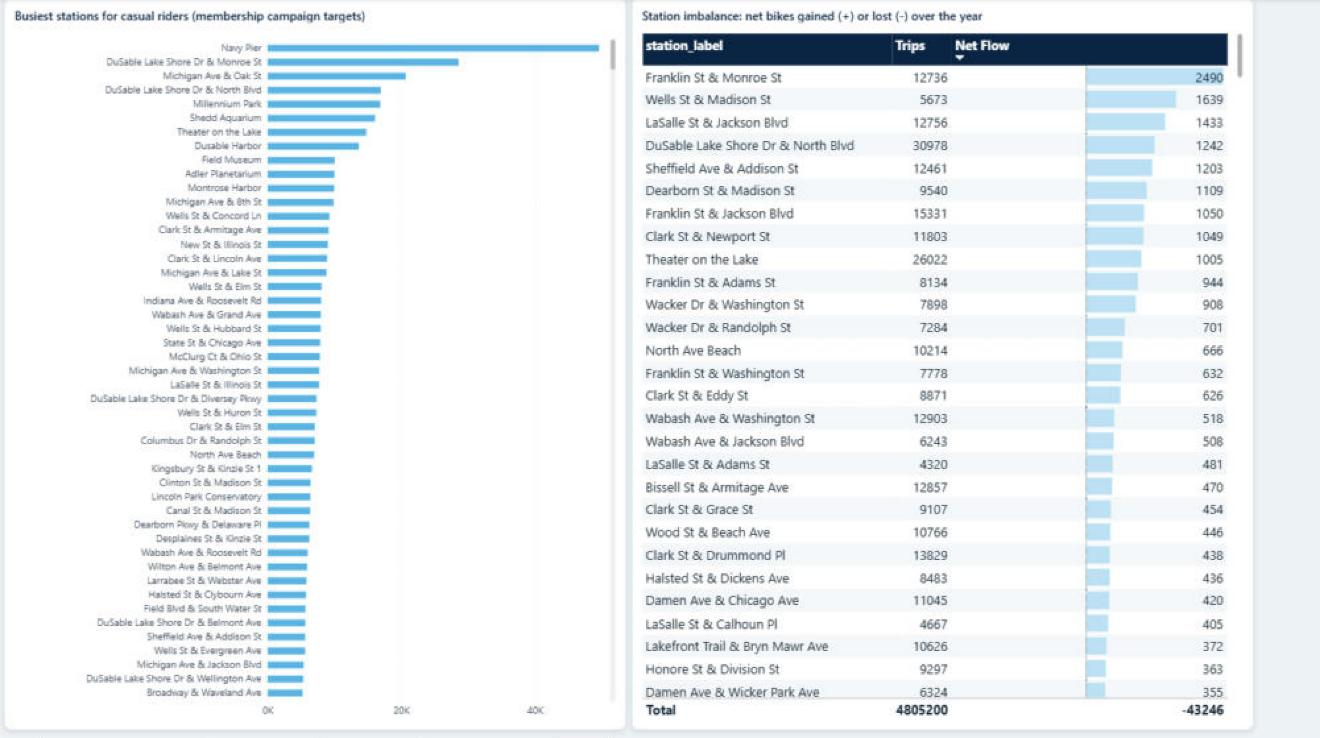

The dashboard page shown, as its layout file describes it:
{"tool":"powerbi","page":{"name":"Stations","canvas":[1920,1080],"ordinal":3},"visuals":[{"type":"clusteredBarChart","title":"Busiest stations for casual riders (membership campaign targets)","fields":{"Category":["dim_station.station_label"],"Y":["_Measures.Casual Trips"]},"box":[10,0,900,1060],"z":0},{"type":"tableEx","title":"Station imbalance: net bikes gained (+) or lost (-) over the year","fields":{"Values":["dim_station.station_label","_Measures.Trips","_Measures.Net Flow"]},"box":[920,0,900,1060],"z":1}]}

Visuals, with their boxes in screenshot pixels (x1, y1, x2, y2), scaled from the page's 1920x1080 canvas onto the 1320x738 screenshot:
"Busiest stations for casual riders (membership campaign targets)" clusteredBarChart: [x1=7, y1=0, x2=626, y2=724]
"Station imbalance: net bikes gained (+) or lost (-) over the year" tableEx: [x1=632, y1=0, x2=1251, y2=724]
